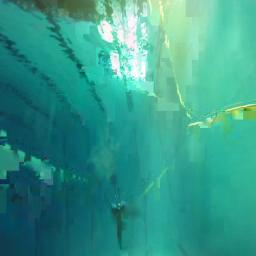front: (111, 202, 127, 215)
